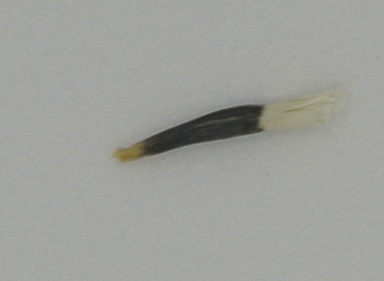เมล็ดดีติดกัน: (112, 88, 342, 164)
